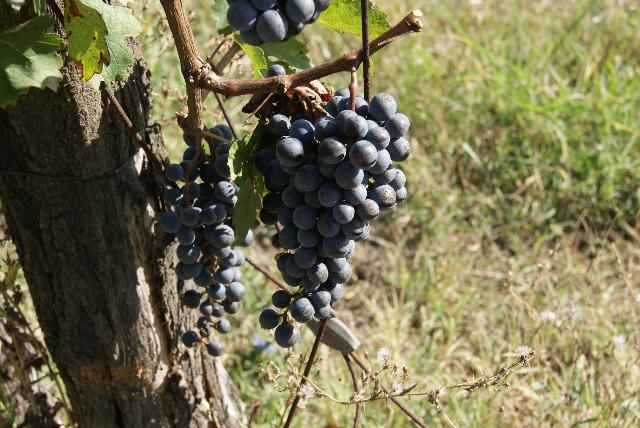grapes: (272, 92, 410, 322), (190, 125, 245, 356), (255, 114, 315, 214), (160, 148, 201, 280)
